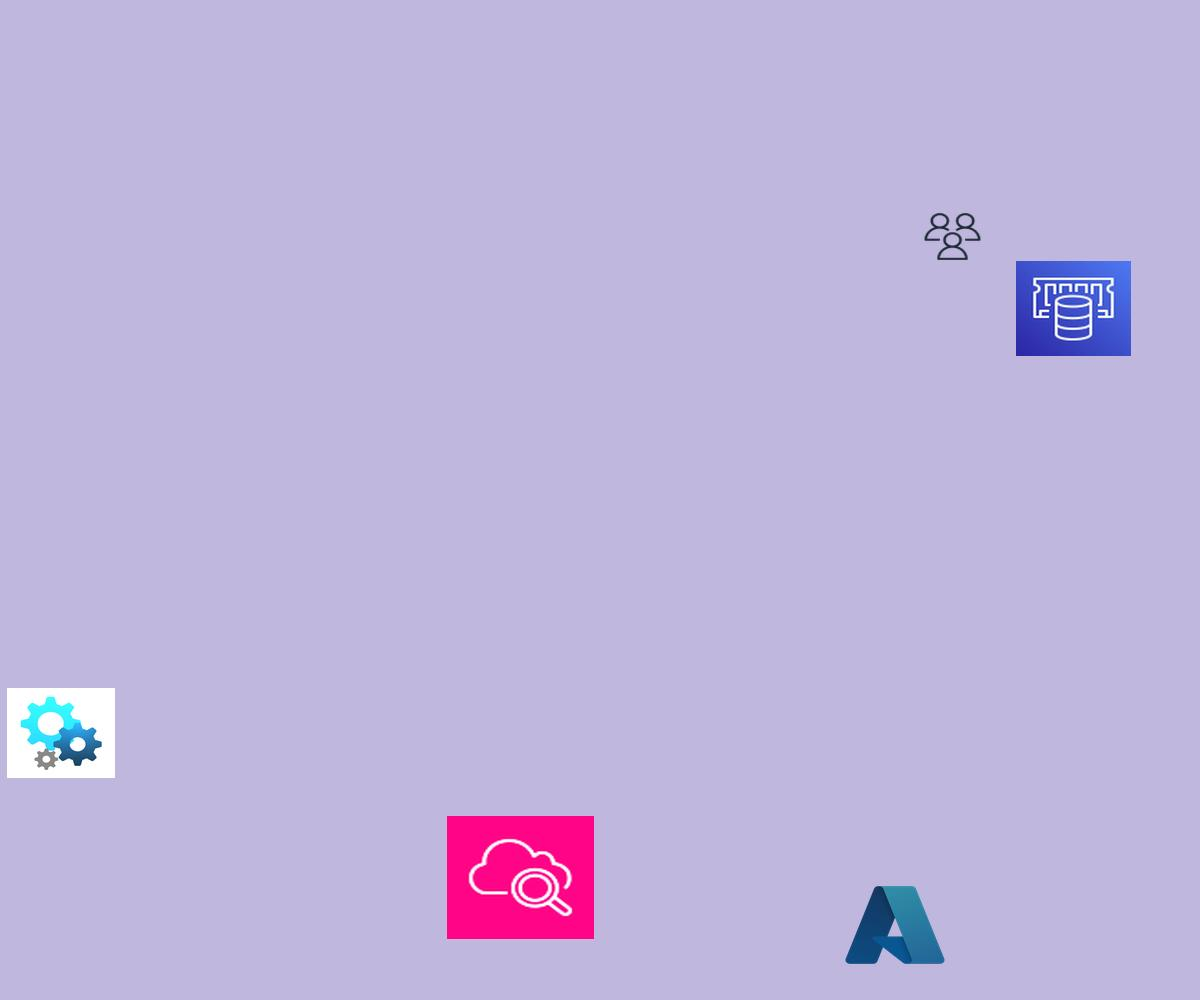AWS-CloudWatch: (447, 816, 594, 939)
AWS-ElastiCache: (1016, 261, 1131, 356)
AWS-Res_Users: (922, 211, 983, 262)
Azure_api: (7, 688, 115, 778)
Azure_services: (841, 880, 949, 970)
